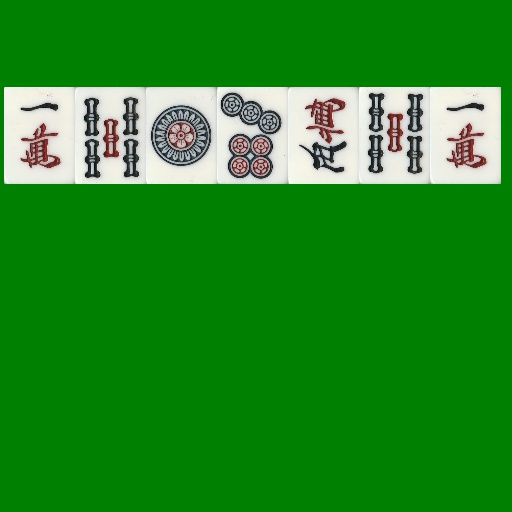1m: (4, 87, 75, 184), (430, 87, 501, 184)
1p: (146, 87, 217, 184)
5m: (288, 87, 359, 184)
5s: (75, 87, 146, 184), (359, 87, 430, 184)
7p: (217, 87, 288, 184)
